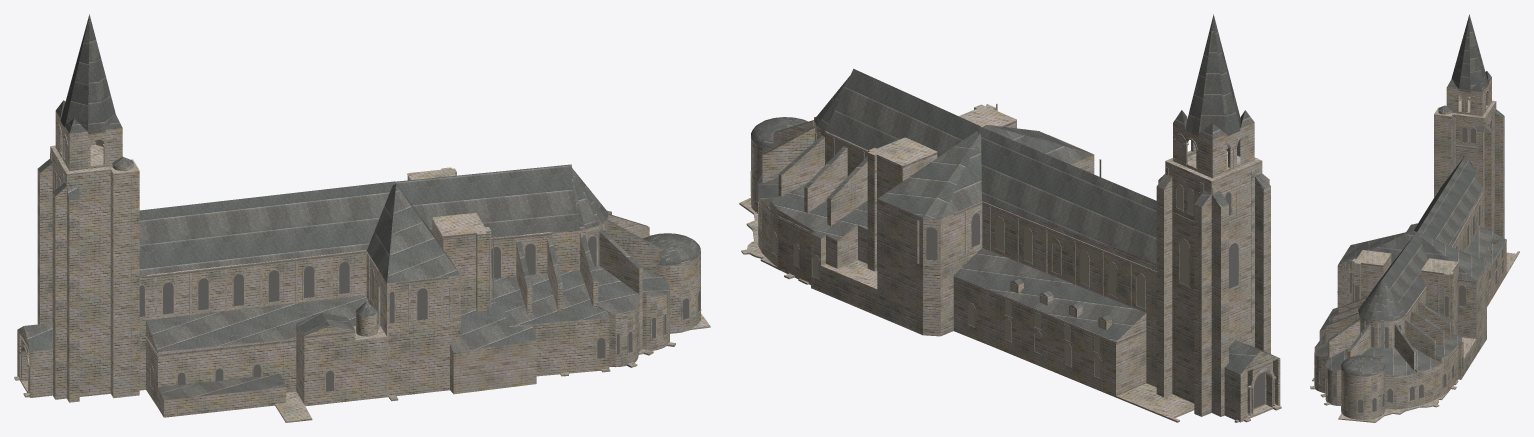
The model's file is saint-germain-des-pres.glb.
3 renders of one model, left to right at view 1: azimuth 30°, elevation 25°; view 2: azimuth 150°, elevation 25°; view 3: azimuth 270°, elevation 25°, orthographic. The views are drawn at different scales.
Parts seen in each view (by area): view 1: stone, roof, trim, window; view 2: stone, roof, trim, window; view 3: stone, roof, trim, window.
Part boxes in pixels (box(x1,y1,x2,y2)): stone: box(14, 111, 710, 422); roof: box(24, 14, 700, 399); trim: box(19, 114, 701, 393); window: box(54, 172, 700, 391); stone: box(739, 104, 1281, 422); roof: box(751, 14, 1277, 374); trim: box(750, 103, 1276, 415); window: box(756, 133, 1265, 408); stone: box(1310, 78, 1519, 422); roof: box(1314, 14, 1506, 376); trim: box(1314, 89, 1506, 413); window: box(1314, 120, 1503, 412).
Bounding box in the file's own units: 102 × 60 × 47.6.
Materials: 4 (4 with a texture image).
